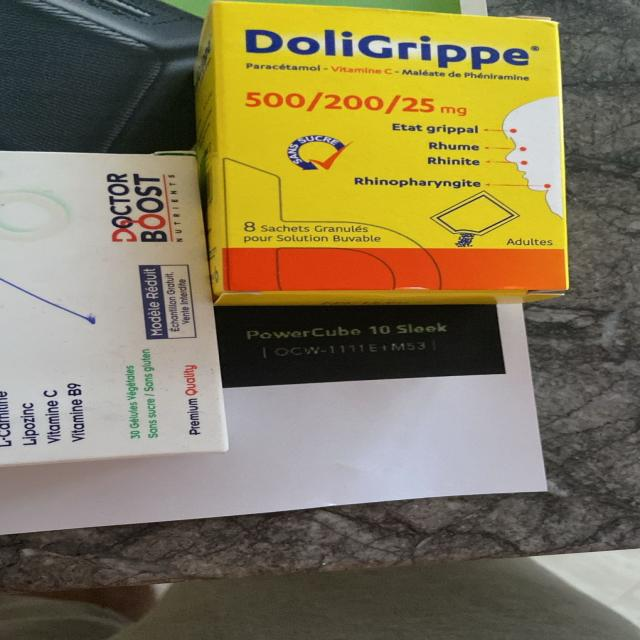PowerCube 10 Sleek OCW-1111ExM53: (235, 317, 458, 361)
